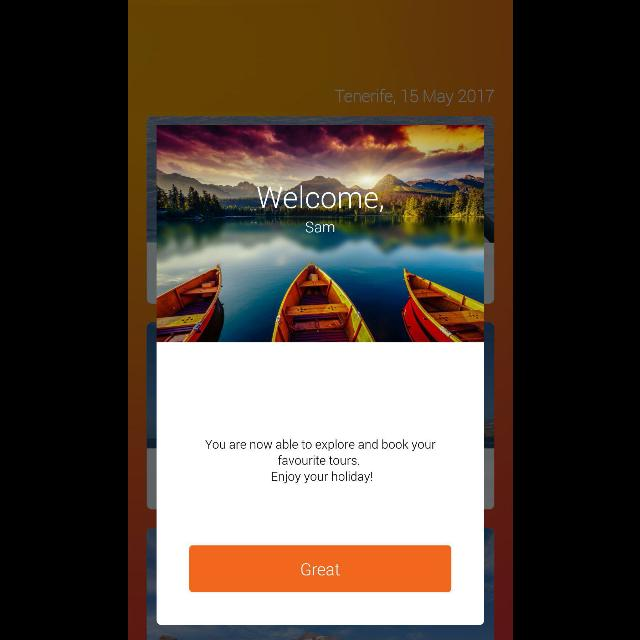image: (155, 125, 482, 342)
panel: (156, 125, 484, 625)
text: (204, 438, 436, 484), (255, 185, 382, 212), (333, 89, 494, 107), (304, 221, 334, 233)
textbutton: (189, 546, 451, 592)
